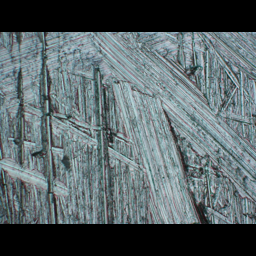d: (1, 32, 255, 222)
